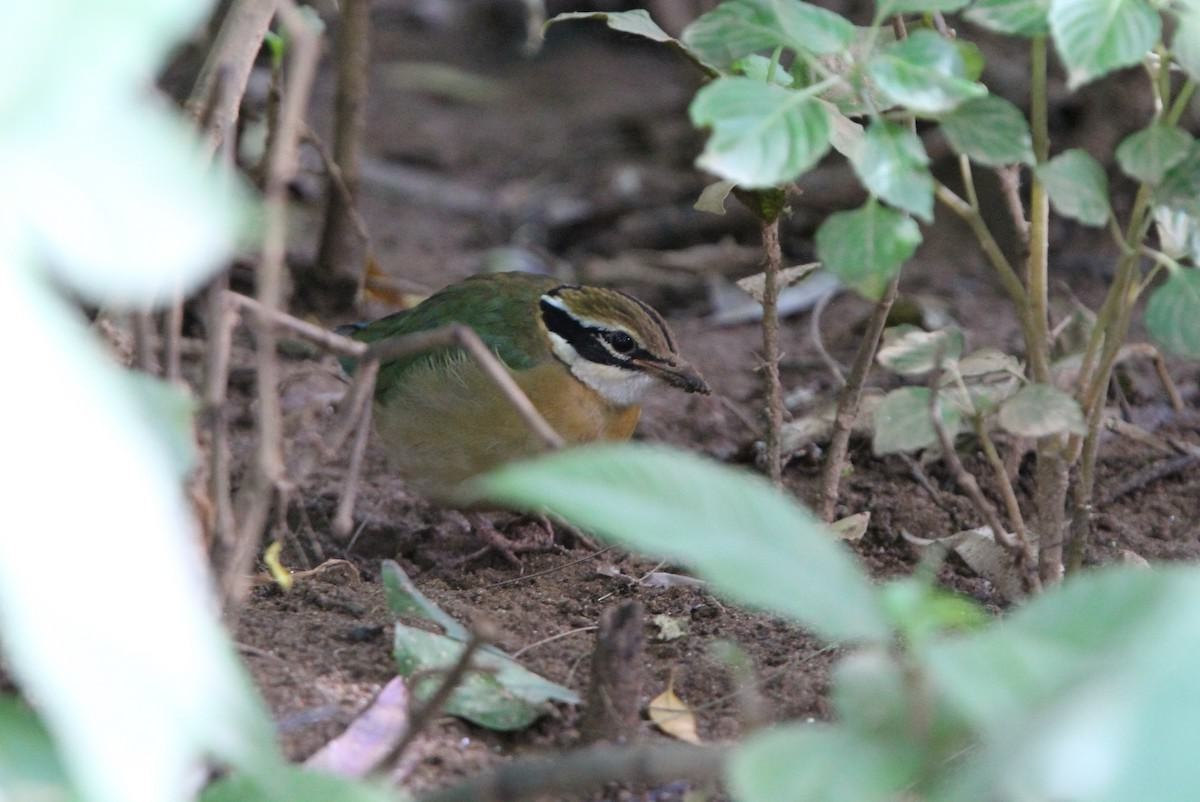pitta: (350, 275, 725, 531)
